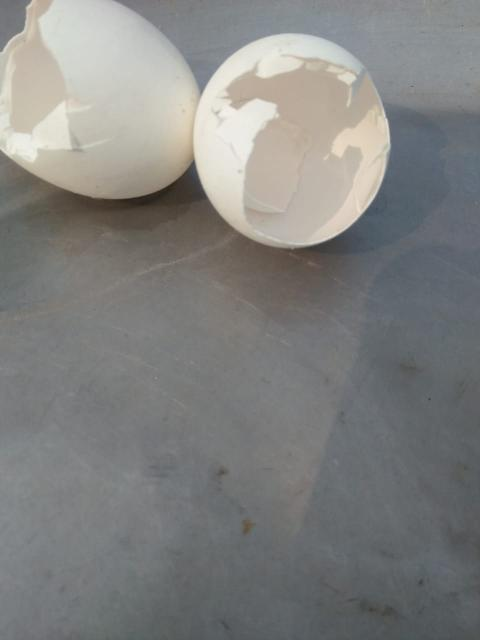Roto: (192, 32, 392, 250), (0, 0, 201, 201)
